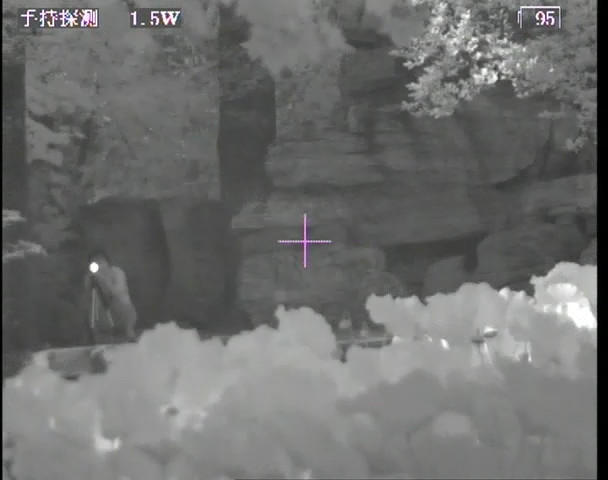my: (85, 260, 103, 276)
